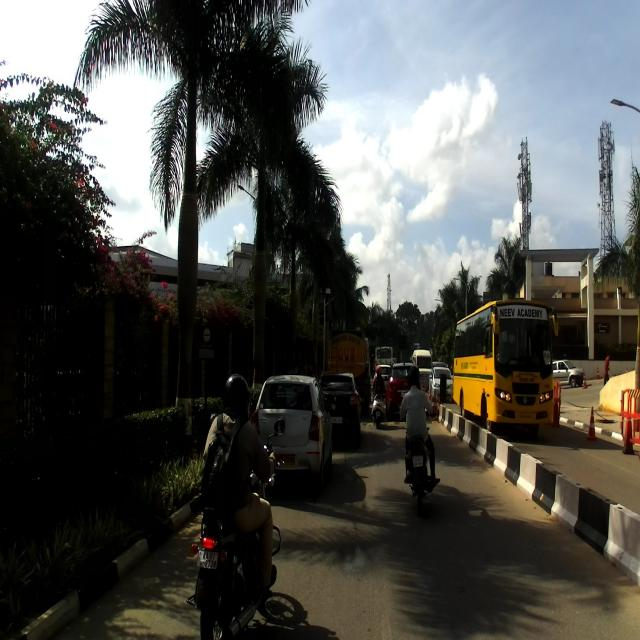bus: (453, 298, 558, 443)
car: (252, 374, 332, 500)
motorcycle: (184, 417, 284, 639), (399, 404, 437, 513)
